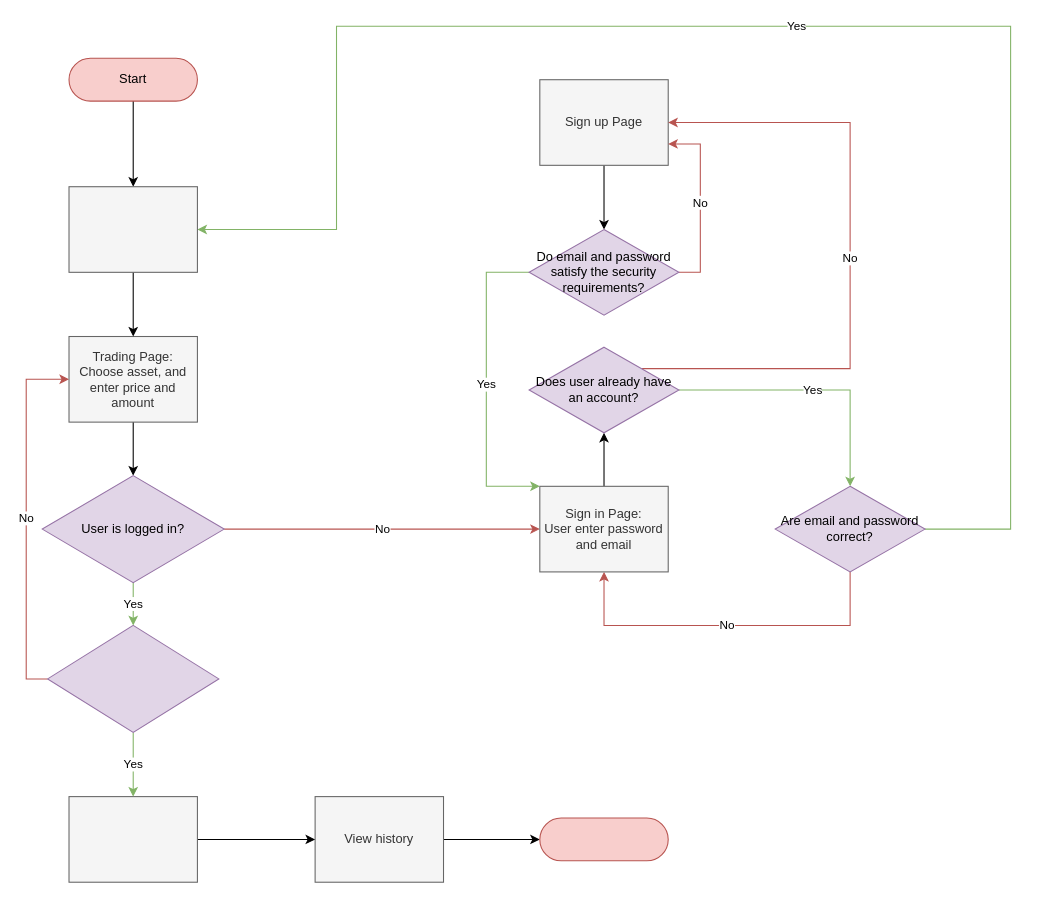
This 1038x901 diagram has some shape labels left out. The centre of each missing label's shape, as x and y in pixels:
Are prices and coin selected?: the point at 133,678
End: the point at 603,839
Hompage: View digital assets: the point at 132,229
Success message: the point at 132,839
